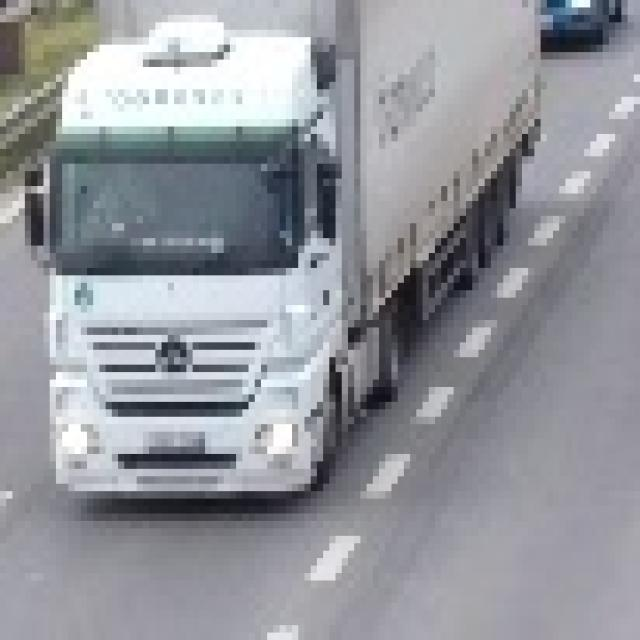TRUCK: (29, 1, 544, 508)
